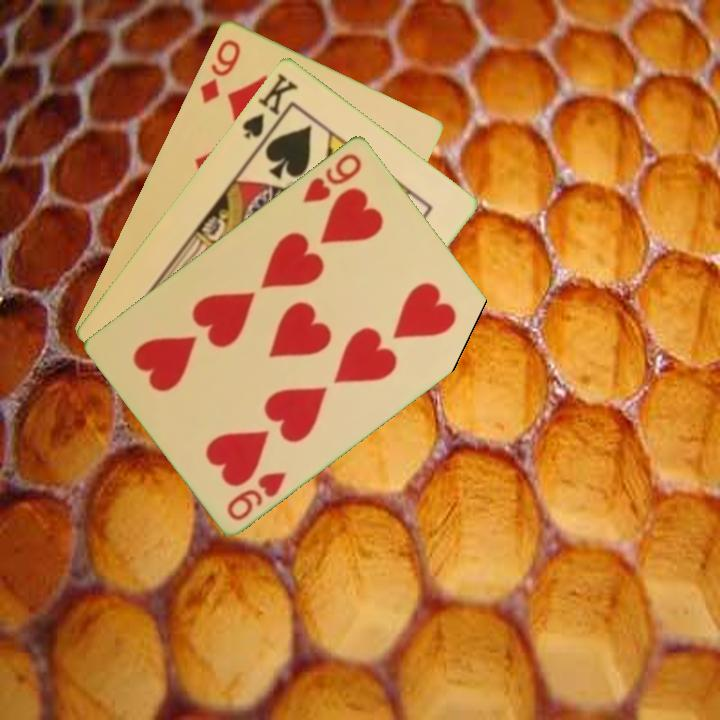9d: (196, 35, 244, 106)
9h: (299, 149, 365, 206), (223, 467, 290, 523)
Ks: (238, 69, 301, 150)
